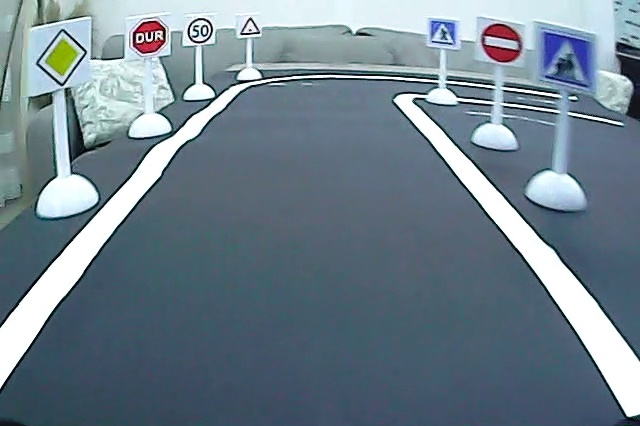do not enter: (480, 18, 523, 66)
green light: (238, 15, 263, 37)
pedestrian crossing: (428, 18, 458, 48)
school crossing: (538, 27, 594, 91)
speed limit 50: (185, 15, 216, 47)
stop sign: (128, 15, 169, 60)
